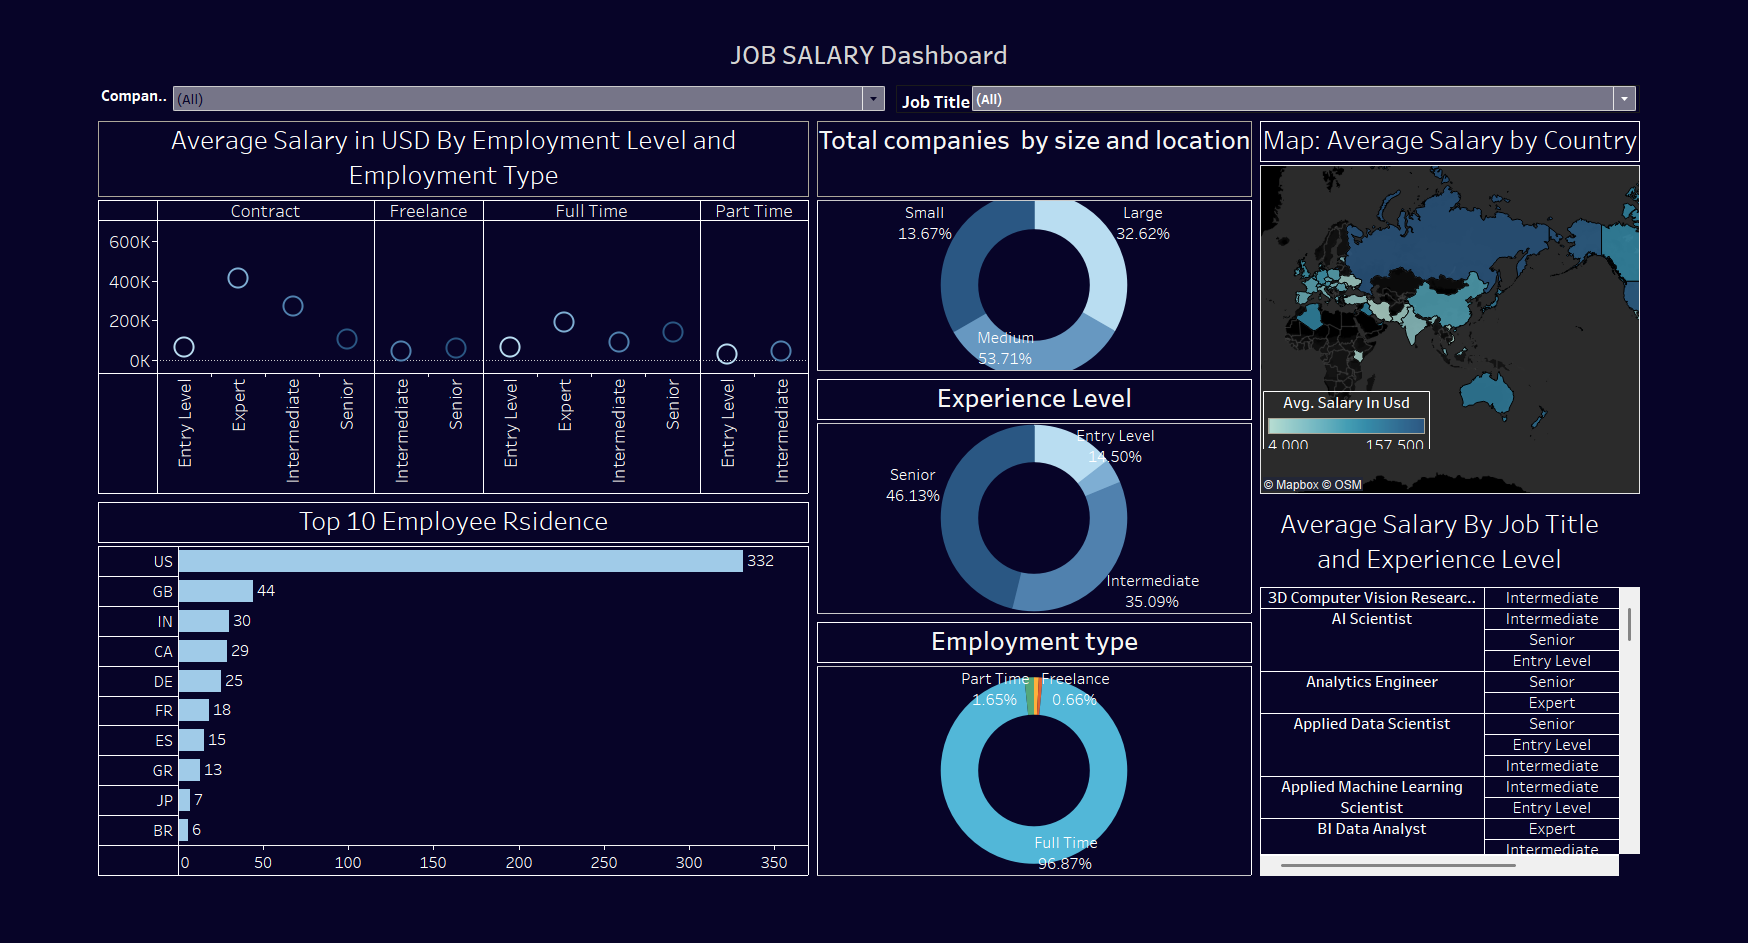

The page's visual inventory and layout, read from the dashboard file:
{"tool":"tableau","page":{"name":"Dashboard 1","canvas":[1566,868],"ordinal":0},"visuals":[{"type":"text","box":[8,8,1550,53]},{"type":"filter","title":"Average Salary By Job Title and Experience Level","param":"[federated.1q1aqi81c6dqcb12j3lnn01v512p].[none:company_location:nk]","box":[8,61,798,36]},{"type":"filter","title":"Average Salary In USD by Experience Level and Employment Type","param":"[federated.1q1aqi81c6dqcb12j3lnn01v512p].[none:job_title:nk]","box":[806,61,752,36]},{"type":"worksheet","title":"Average Salary In USD by Experience Level and Employment Type","mark":"Shape","rows":["salary_in_usd"],"cols":["employment_type","experience_level"],"box":[8,97,719.2,381.5]},{"type":"worksheet","title":"Total companies  by size and location (2)","mark":"Pie","rows":["Calculation_1402308338394468360","Calculation_1402308338394173446"],"box":[727.2,97,443.3,258]},{"type":"worksheet","title":"Map: Average Salary by Country","mark":"Automatic","box":[1170.5,97,387.5,381.5]},{"type":"worksheet","title":"Experience Level","mark":"Pie","rows":["Calculation_1402308338394468360","Calculation_1402308338394173446"],"box":[727.2,355,443.3,243]},{"type":"legend","title":"Map: Average Salary by Country","param":"[federated.1q1aqi81c6dqcb12j3lnn01v512p].[avg:salary_in_usd:qk]","box":[1176.7,370.6,167,58.8]},{"type":"worksheet","title":"Top 10 Employee Residence","mark":"Automatic","rows":["employee_residence"],"cols":["employee_residence"],"box":[8,478.5,719.2,381.5]},{"type":"worksheet","title":"Average Salary By Job Title and Experience Level","mark":"Square","rows":["job_title","experience_level"],"box":[1170.5,478.5,387.5,381.5]},{"type":"worksheet","title":"Employment type","mark":"Pie","rows":["Calculation_1402308338394468360","Calculation_1402308338394173446"],"box":[727.2,598,443.3,262]}]}

Visuals, with their boxes in screenshot pixels (x1, y1, x2, y2), scaled from the page's 1566x868 canvas onto the 1748x943 screenshot:
text: detection(9, 9, 1739, 66)
"Average Salary By Job Title and Experience Level" filter: detection(9, 66, 900, 105)
"Average Salary In USD by Experience Level and Employment Type" filter: detection(900, 66, 1739, 105)
"Average Salary In USD by Experience Level and Employment Type" worksheet (Shape marks): detection(9, 105, 812, 520)
"Total companies  by size and location (2)" worksheet (Pie marks): detection(812, 105, 1307, 386)
"Map: Average Salary by Country" worksheet: detection(1307, 105, 1739, 520)
"Experience Level" worksheet (Pie marks): detection(812, 386, 1307, 650)
"Map: Average Salary by Country" legend: detection(1313, 403, 1500, 467)
"Top 10 Employee Residence" worksheet: detection(9, 520, 812, 934)
"Average Salary By Job Title and Experience Level" worksheet (Square marks): detection(1307, 520, 1739, 934)
"Employment type" worksheet (Pie marks): detection(812, 650, 1307, 934)
